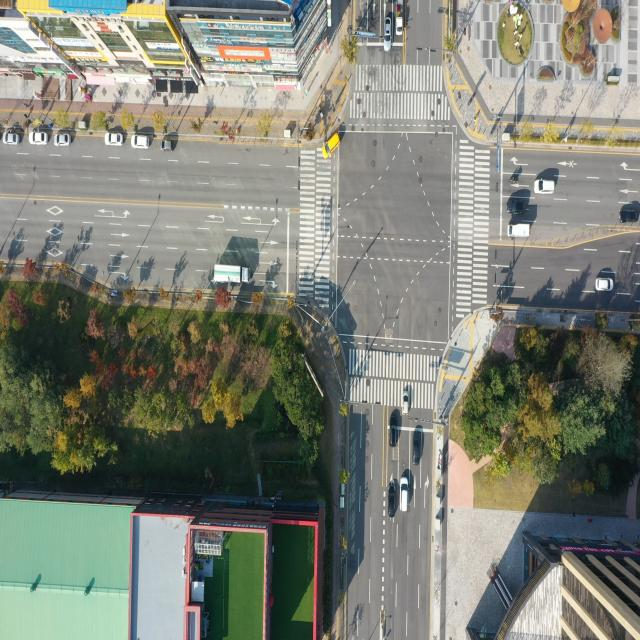car: (324, 129, 342, 157), (399, 476, 408, 514), (388, 480, 396, 518), (132, 135, 152, 150), (414, 430, 422, 466), (534, 179, 554, 193), (105, 133, 124, 147), (390, 414, 398, 447), (384, 19, 392, 51), (30, 132, 48, 146), (508, 200, 526, 214), (620, 210, 639, 223), (596, 278, 613, 292), (3, 133, 20, 146), (57, 134, 72, 148), (402, 392, 410, 417), (161, 140, 177, 152)
medium_truck: (211, 264, 251, 286)
small_truck: (395, 0, 405, 36), (510, 222, 531, 238)
